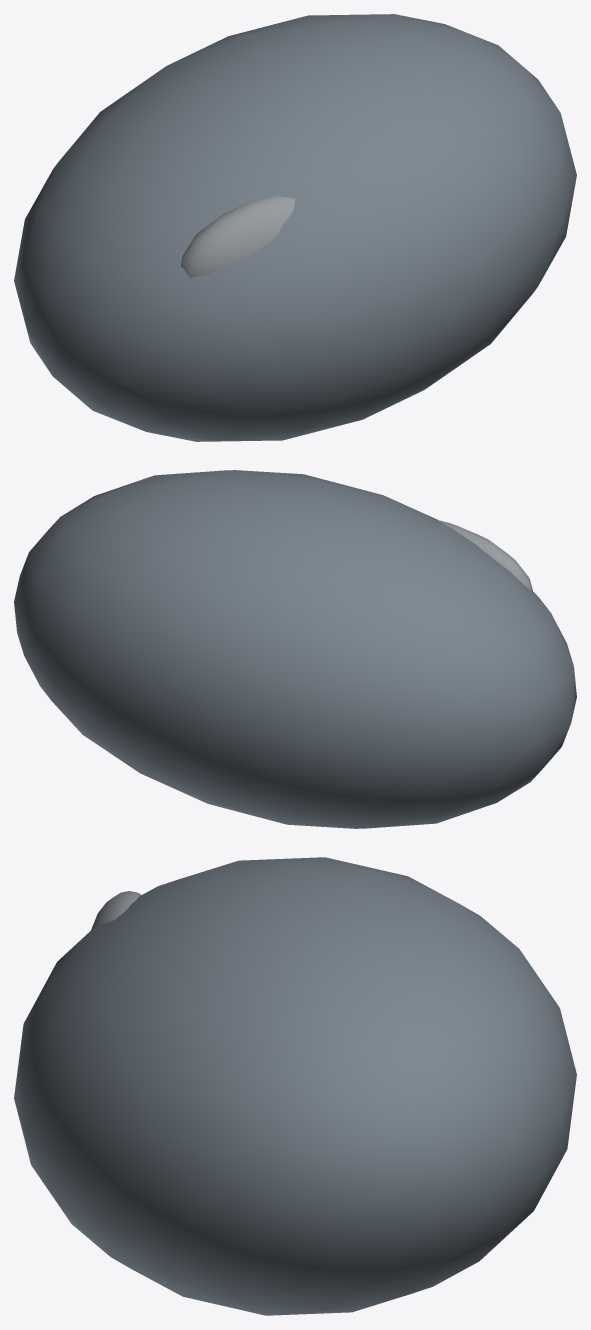
File: rock.glb
The picture shows the model from 3 angles, top to bottom: view 1: azimuth 30°, elevation 25°; view 2: azimuth 150°, elevation 25°; view 3: azimuth 270°, elevation 25°; orthographic projection. The views are drawn at different scales.
Visible parts, largest first — view 1: rock_textured_mesh; view 2: rock_textured_mesh; view 3: rock_textured_mesh.
Part boxes in pixels (<box>): rock_textured_mesh: <box>14,14,576,441</box>; rock_textured_mesh: <box>14,470,576,828</box>; rock_textured_mesh: <box>14,857,576,1315</box>.
Bounding box in the file's own units: 2.41 × 1.42 × 1.86.
1 material, 1 textured.
